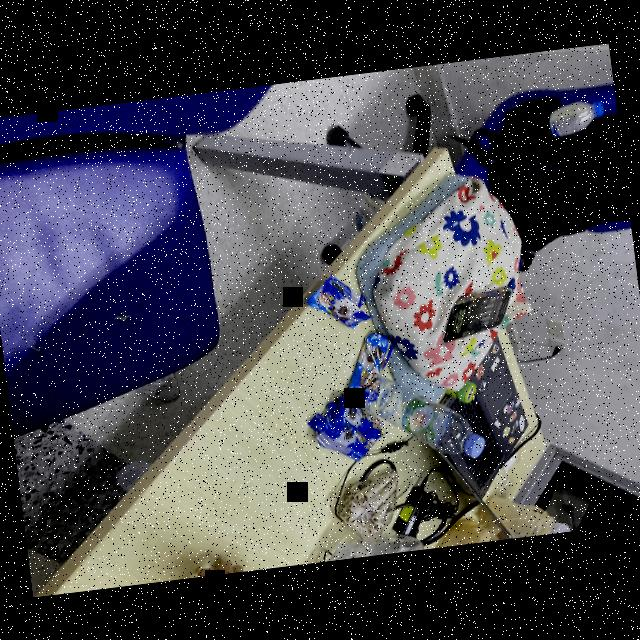plastic_bag: (474, 487, 576, 542), (318, 520, 424, 562), (427, 510, 498, 548)
plastic_bottle: (365, 364, 486, 472), (544, 97, 606, 140)
plastic_bottle_cap: (461, 433, 486, 459), (588, 99, 604, 118)
snack_bag: (302, 386, 386, 466), (332, 469, 404, 544), (298, 269, 374, 337), (336, 330, 404, 404)
